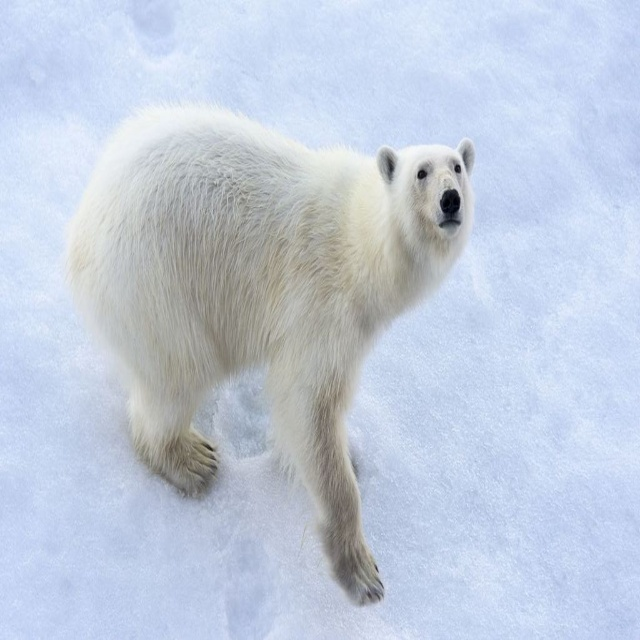Polar bear: (64, 93, 472, 605)
